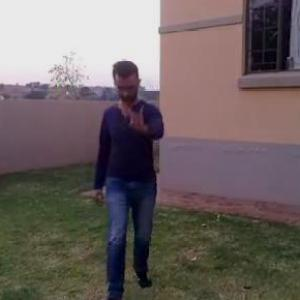takeoff-hand: (119, 100, 151, 136)
